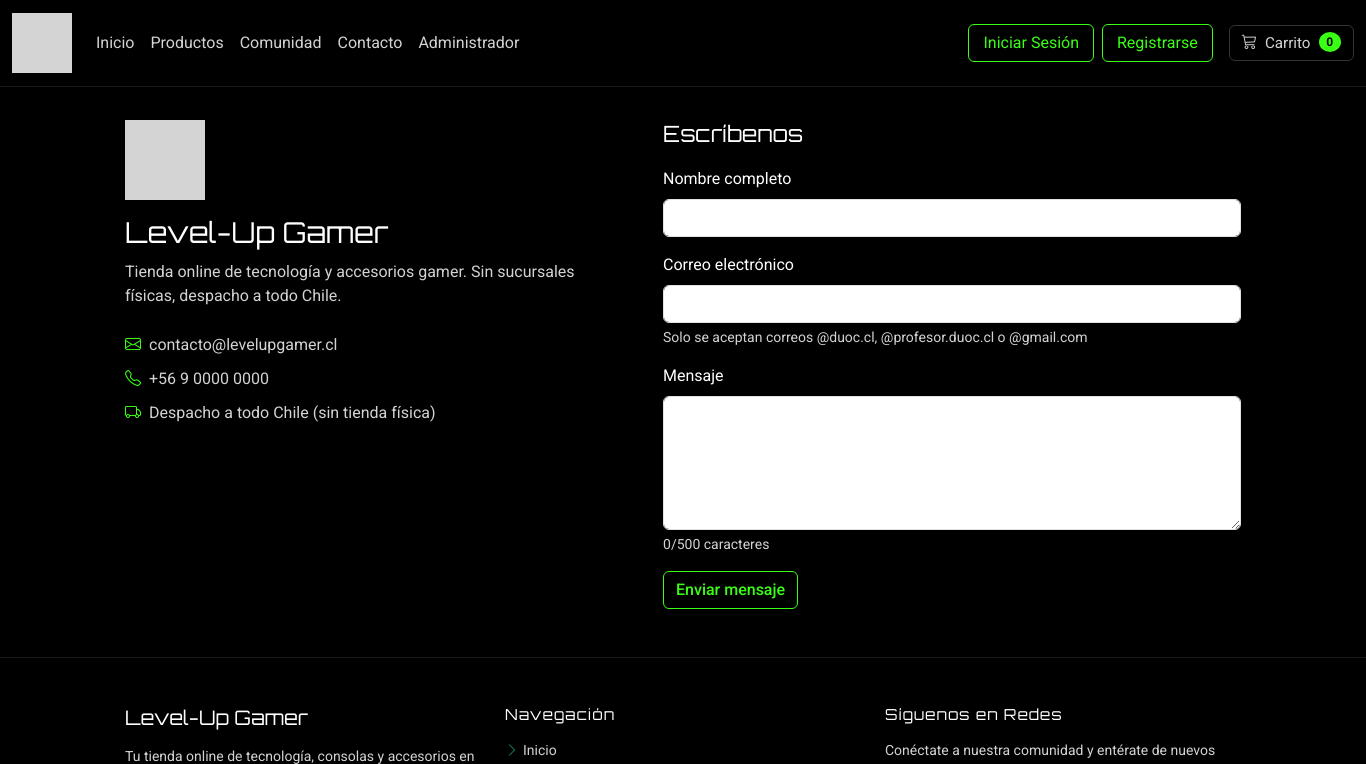
it: Un correo con dominio no permitido muestra el error de dominio
Type "javier@hotmail.com" into the field labelled "Correo electrónico". click: point(952, 304)
box: [663,285,1241,323]
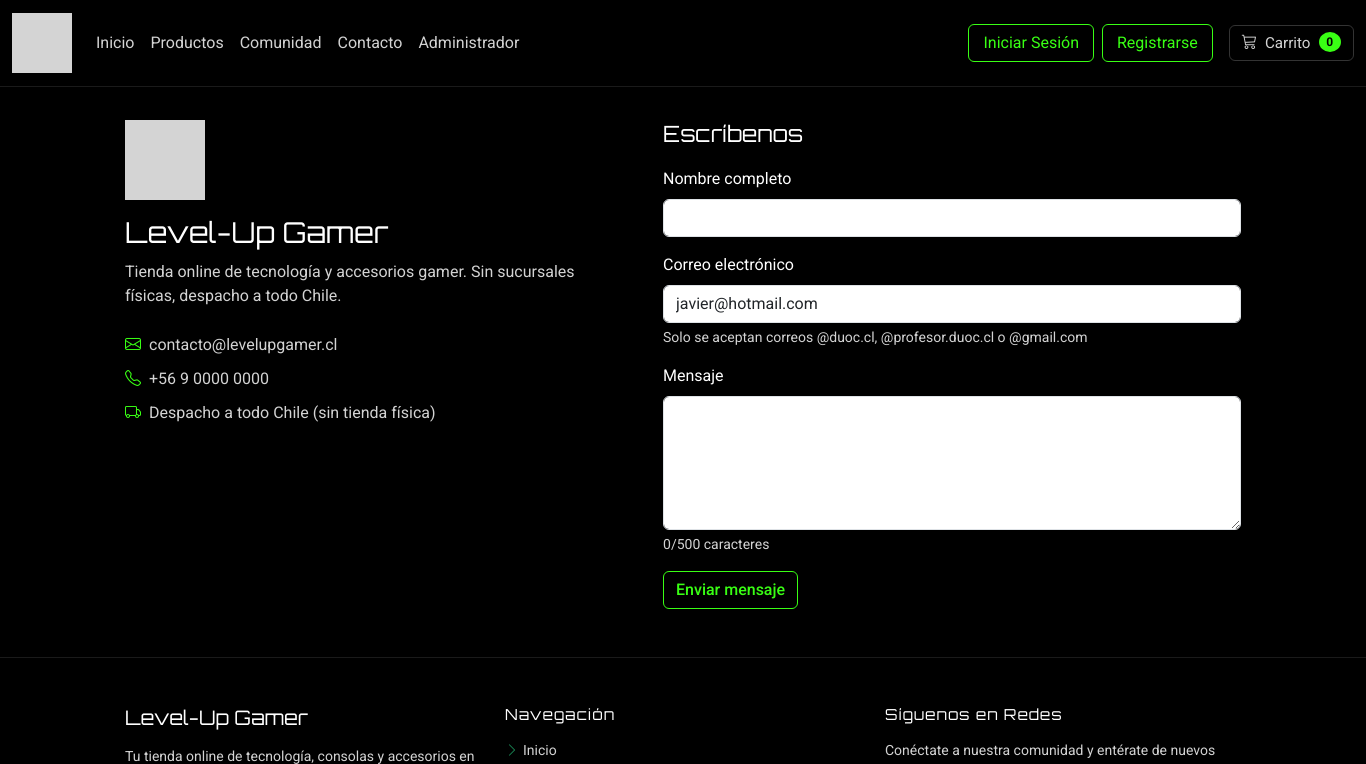
Click the button "Enviar mensaje". click: point(731, 590)
box: [663,571,798,609]
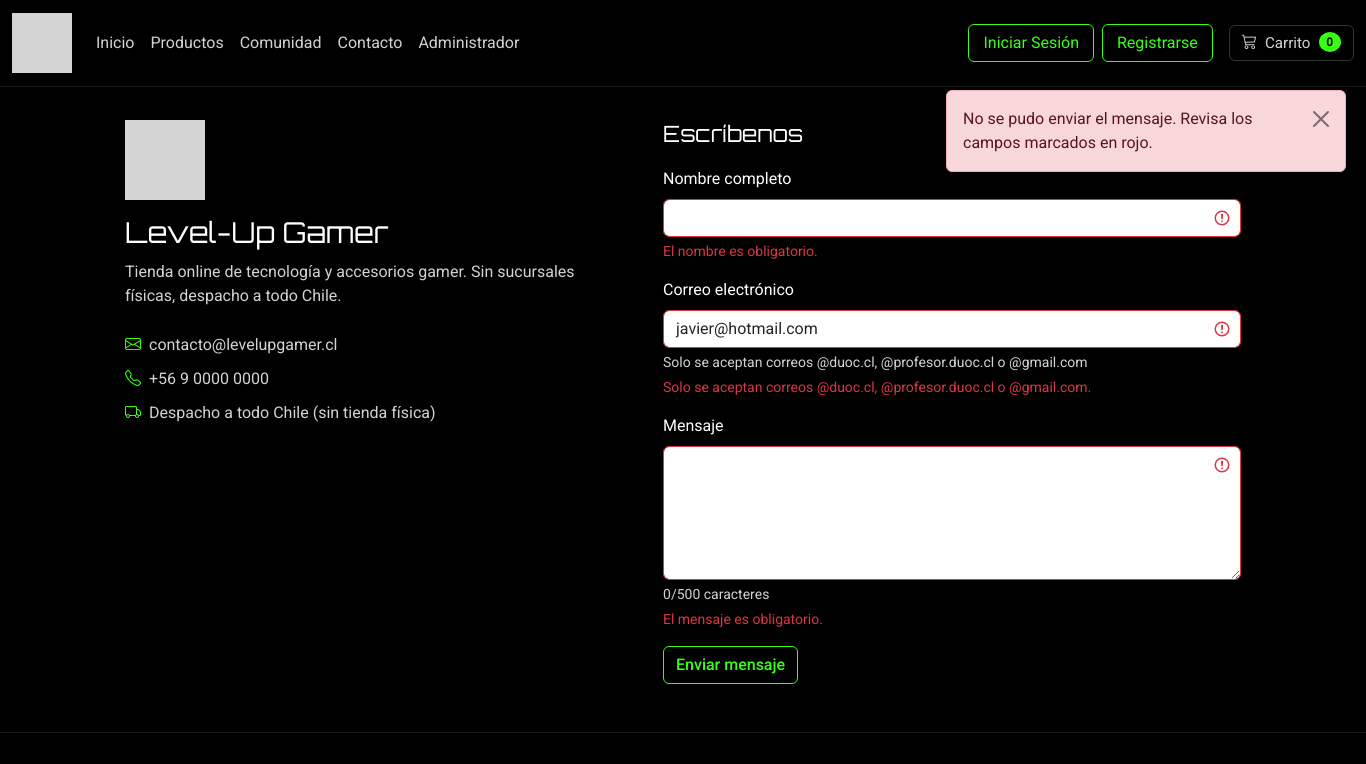
Now the text "Solo se aceptan correos @duoc.cl, @profesor.duoc.cl o @gmail.com." is shown, box [663,379,1091,395]
